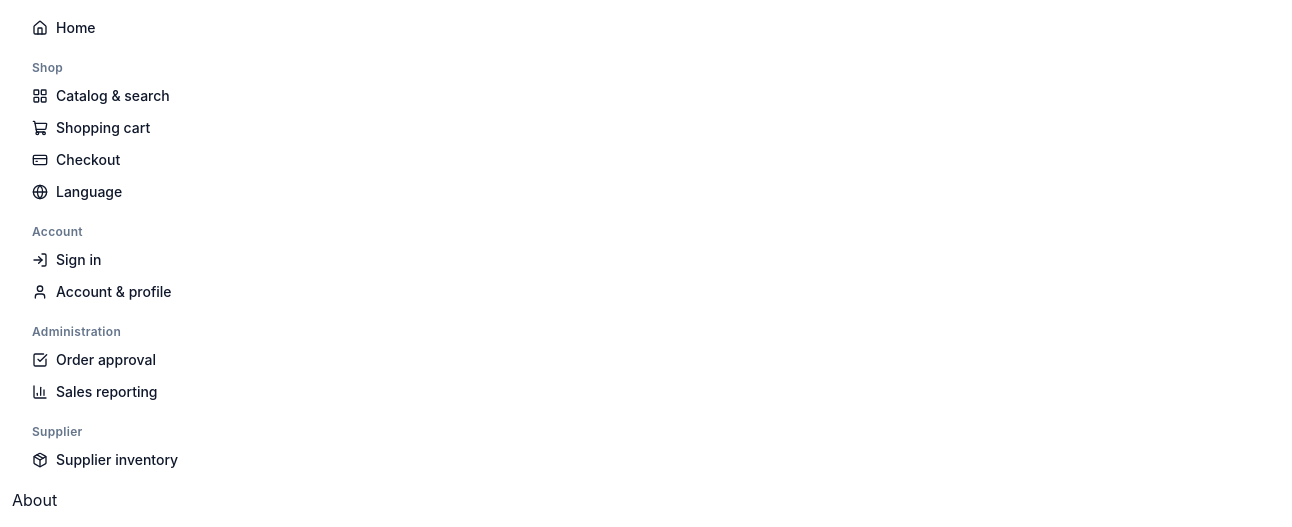
Test: GlobalNav › [SWHR2-C-0274] the home link returns to the landing page
The image size is (1292, 527).
Click the link "Home". click: (64, 28)
box: x1=32 y1=19 x2=96 y2=36
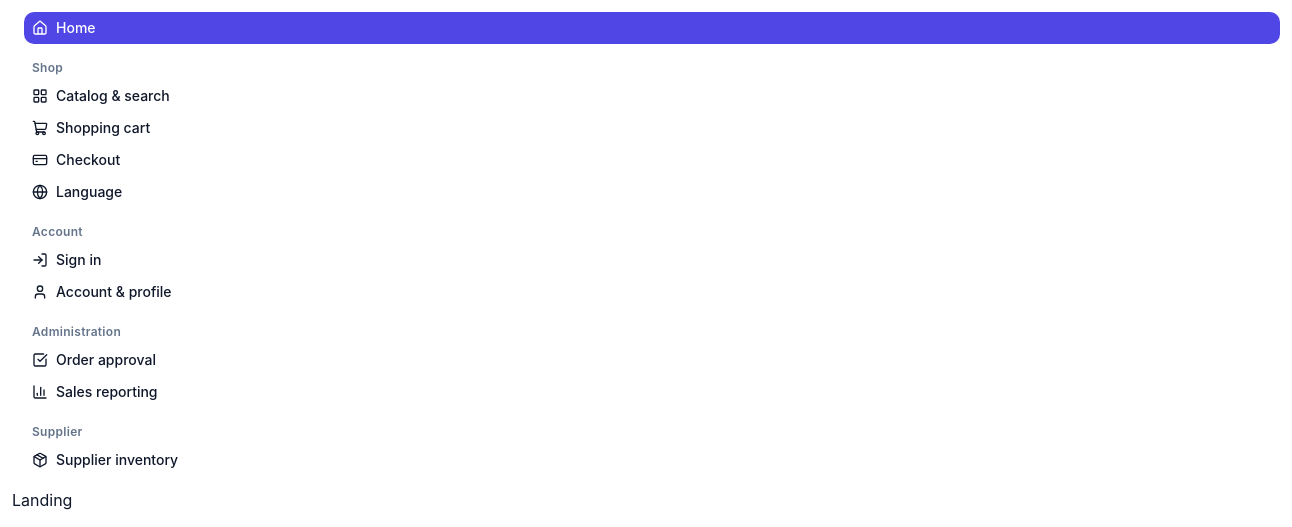
Expected: the heading "Landing" is shown, x1=12 y1=490 x2=72 y2=510
